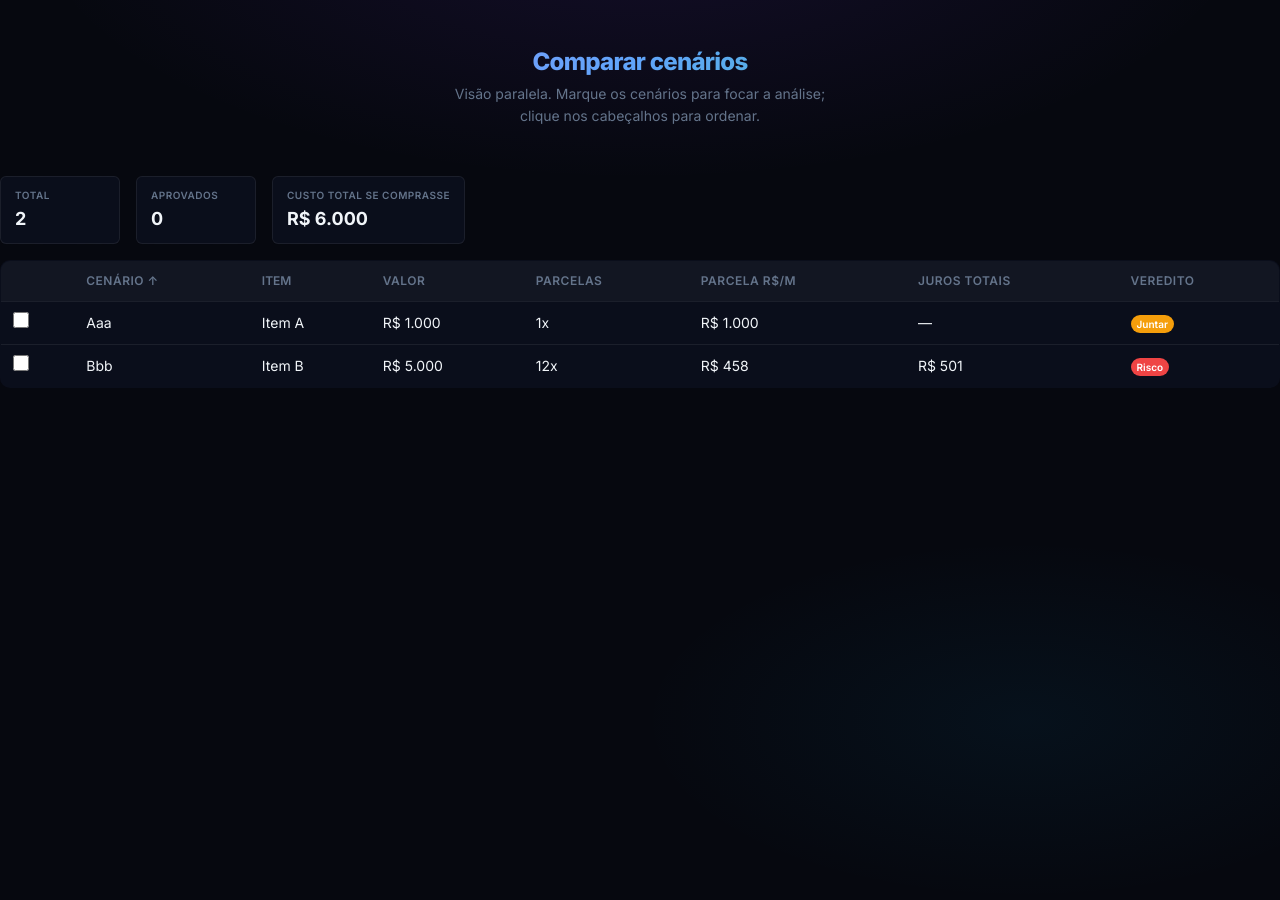
Test: CompararPage › mostra indicador de sort (↑/↓) na coluna ativa
The width and height of the screenshot is (1280, 900).
Click the button "Valor": (404,281) [383,271,425,291]
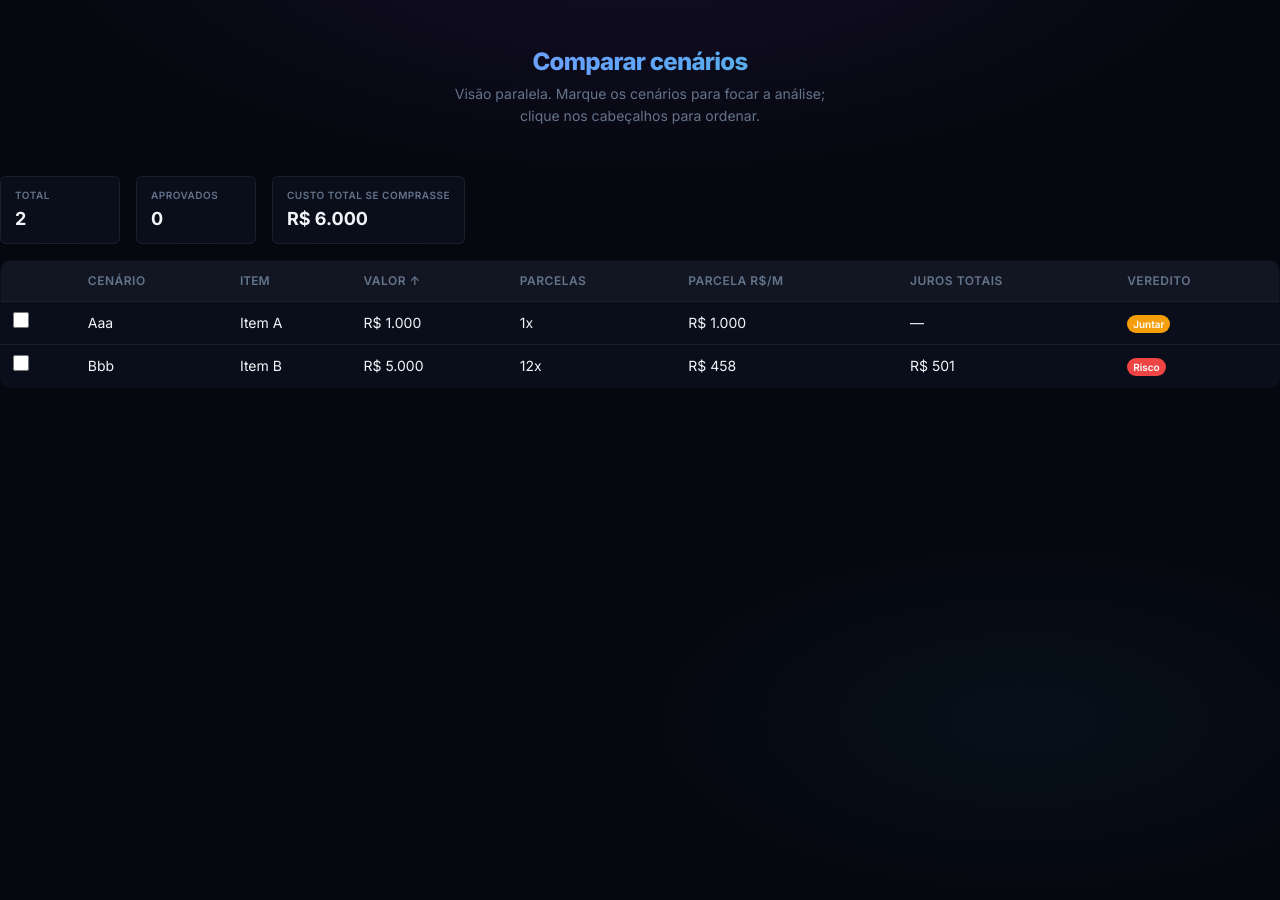
Check: the button "Valor ↑" is shown, box [364,271,421,291]
